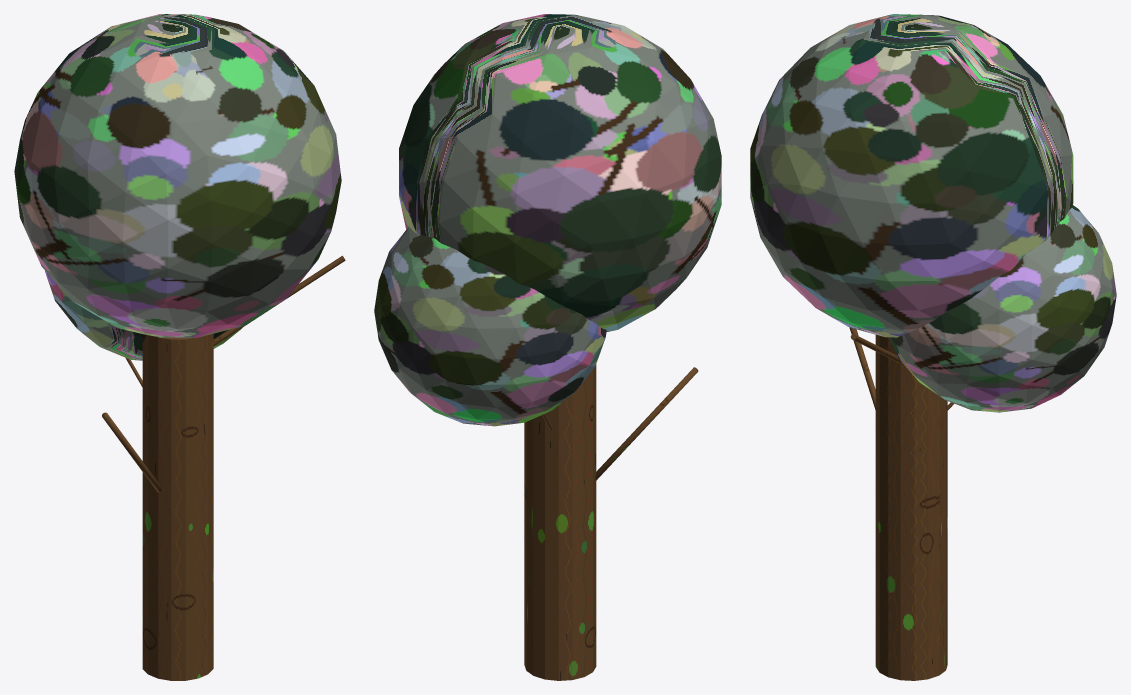
The model's file is tree_4.glb.
The picture shows the model from 3 angles, left to right: view 1: azimuth 30°, elevation 25°; view 2: azimuth 150°, elevation 25°; view 3: azimuth 270°, elevation 25°; orthographic projection.
Parts seen in each view (by area): view 1: tree_4_crown0, tree_4_trunk, tree_4_crown1, tree_4_branch3, tree_4_branch2; view 2: tree_4_crown0, tree_4_crown1, tree_4_trunk, tree_4_branch3; view 3: tree_4_crown0, tree_4_crown1, tree_4_trunk.
Boxes of the visible parts, x1,y1,x2,y2 form: tree_4_crown0: (14,14,341,337); tree_4_trunk: (142,333,213,680); tree_4_crown1: (45,271,241,360); tree_4_branch3: (102,412,161,492); tree_4_branch2: (213,255,345,345); tree_4_crown0: (399,14,721,331); tree_4_crown1: (374,227,606,426); tree_4_trunk: (524,364,596,680); tree_4_branch3: (595,367,698,480); tree_4_crown0: (750,14,1073,337); tree_4_crown1: (889,205,1116,412); tree_4_trunk: (875,335,947,680).
Bounding box in the file's own units: 1.13 × 2.44 × 1.27.
7 materials, 7 textured.
